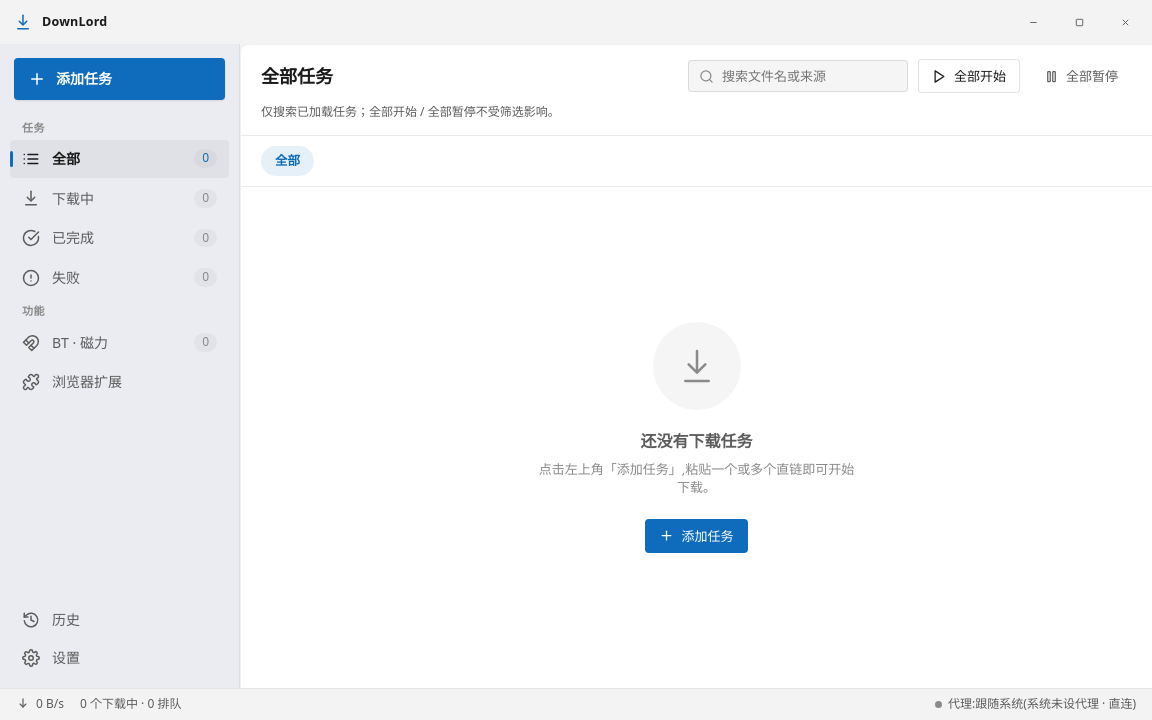
Test case: 点添加任务打开对话框
Expected: the heading "还没有下载任务" is shown, [640, 430, 752, 452]
Step 1. Click the 1st button "添加任务" → point(120, 79), box [14, 58, 225, 100]
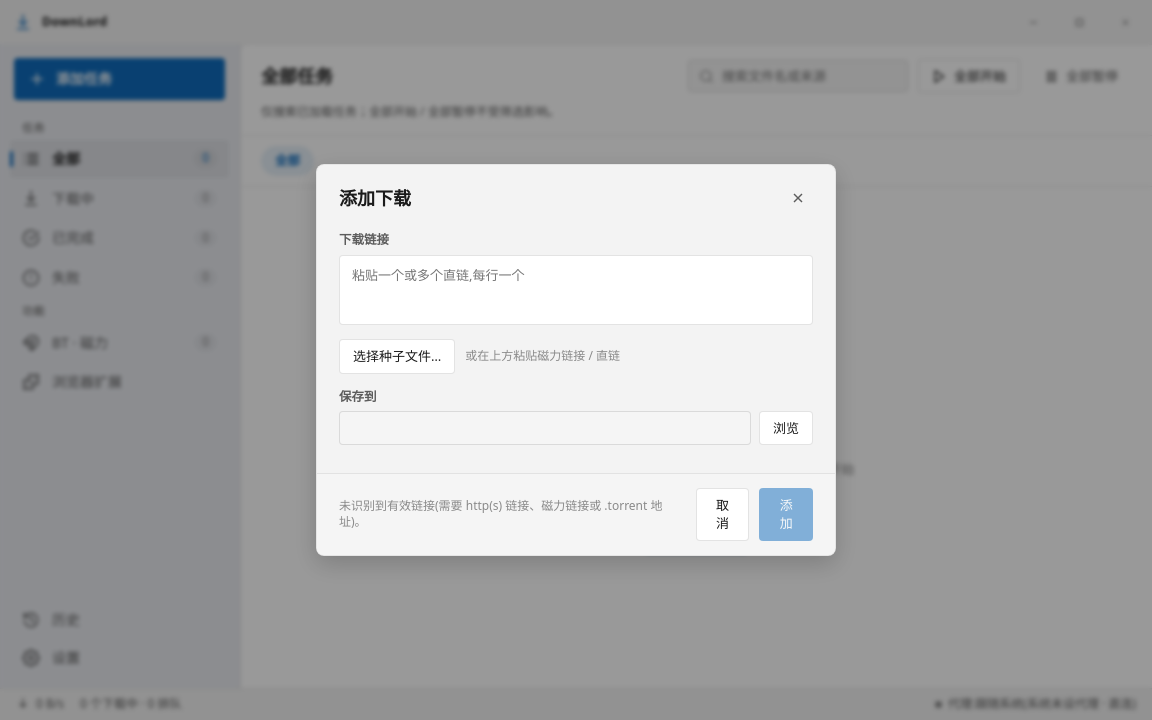
Expected: the heading "添加下载" is shown, [339, 186, 411, 210]
